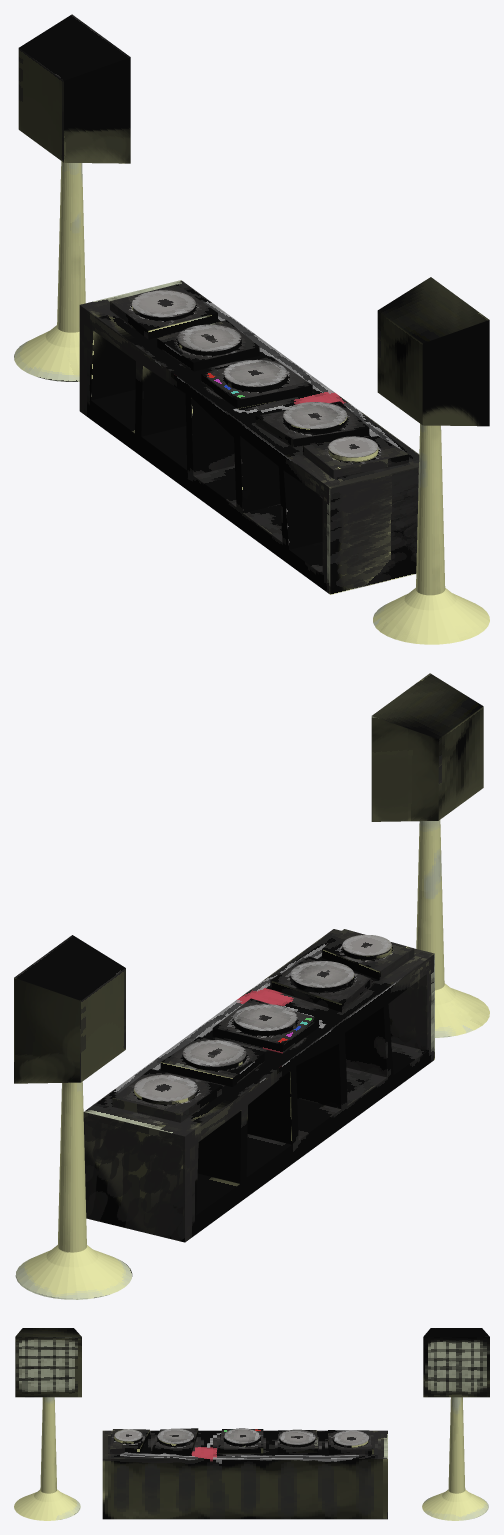
The model's file is djbooth.glb.
3 views of the same model, one above another, from view 1: azimuth 30°, elevation 25°; view 2: azimuth 150°, elevation 25°; view 3: azimuth 270°, elevation 25° (orthographic). The views are drawn at different scales.
Visible parts, largest first — view 1: Cube; view 2: Cube; view 3: Cube.
Part boxes in pixels (x1=…): Cube: x1=14, y1=14, x2=489, y2=644; Cube: x1=14, y1=673, x2=489, y2=1299; Cube: x1=14, y1=1328, x2=489, y2=1520.
Size of the model in its own units: 2.03 by 5.89 by 14.26.
Materials: 1 (1 with a texture image).
